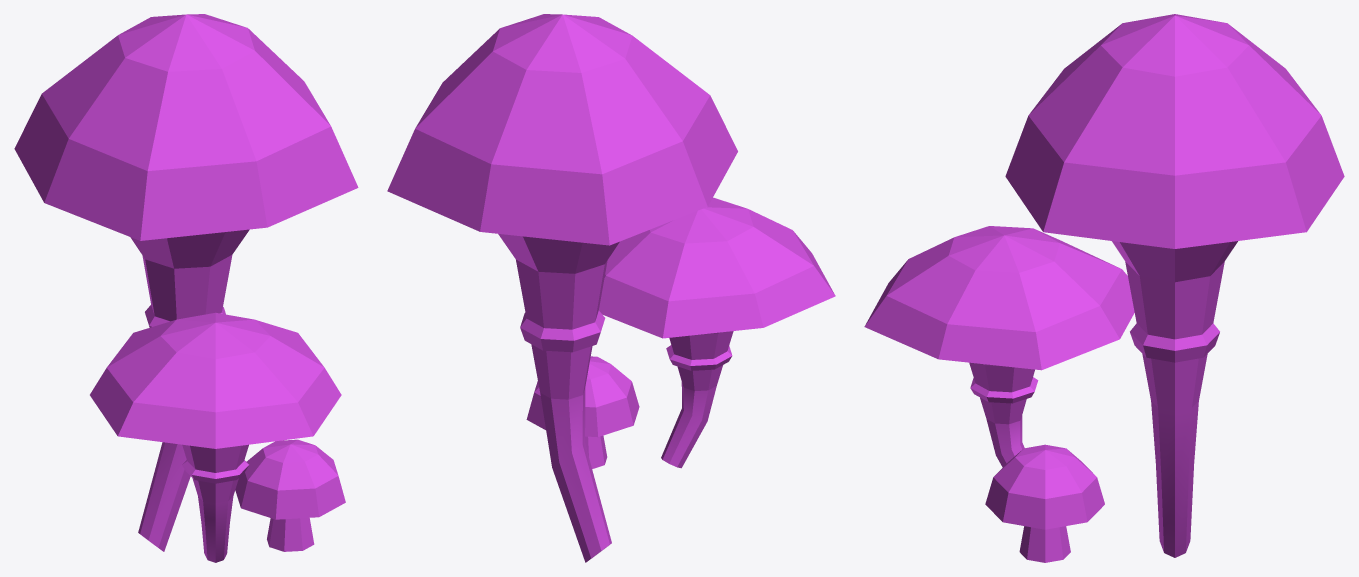
Rendered from mushroom_04.fbx.
3 renders of one model, left to right at view 1: azimuth 30°, elevation 25°; view 2: azimuth 150°, elevation 25°; view 3: azimuth 270°, elevation 25°, orthographic. The views are drawn at different scales.
Visible parts, largest first — view 1: pSphere11; view 2: pSphere11; view 3: pSphere11.
Boxes of the visible parts, x1,y1,x2,y2 form: pSphere11: [14, 14, 358, 562]; pSphere11: [387, 14, 835, 562]; pSphere11: [864, 14, 1344, 562].
Size of the model in its own units: 2.85 by 4.65 by 3.65.
